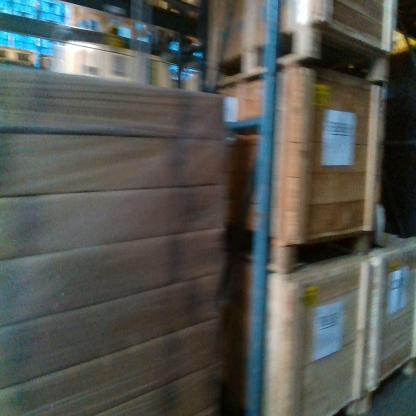pallet: (0, 48, 34, 64)
